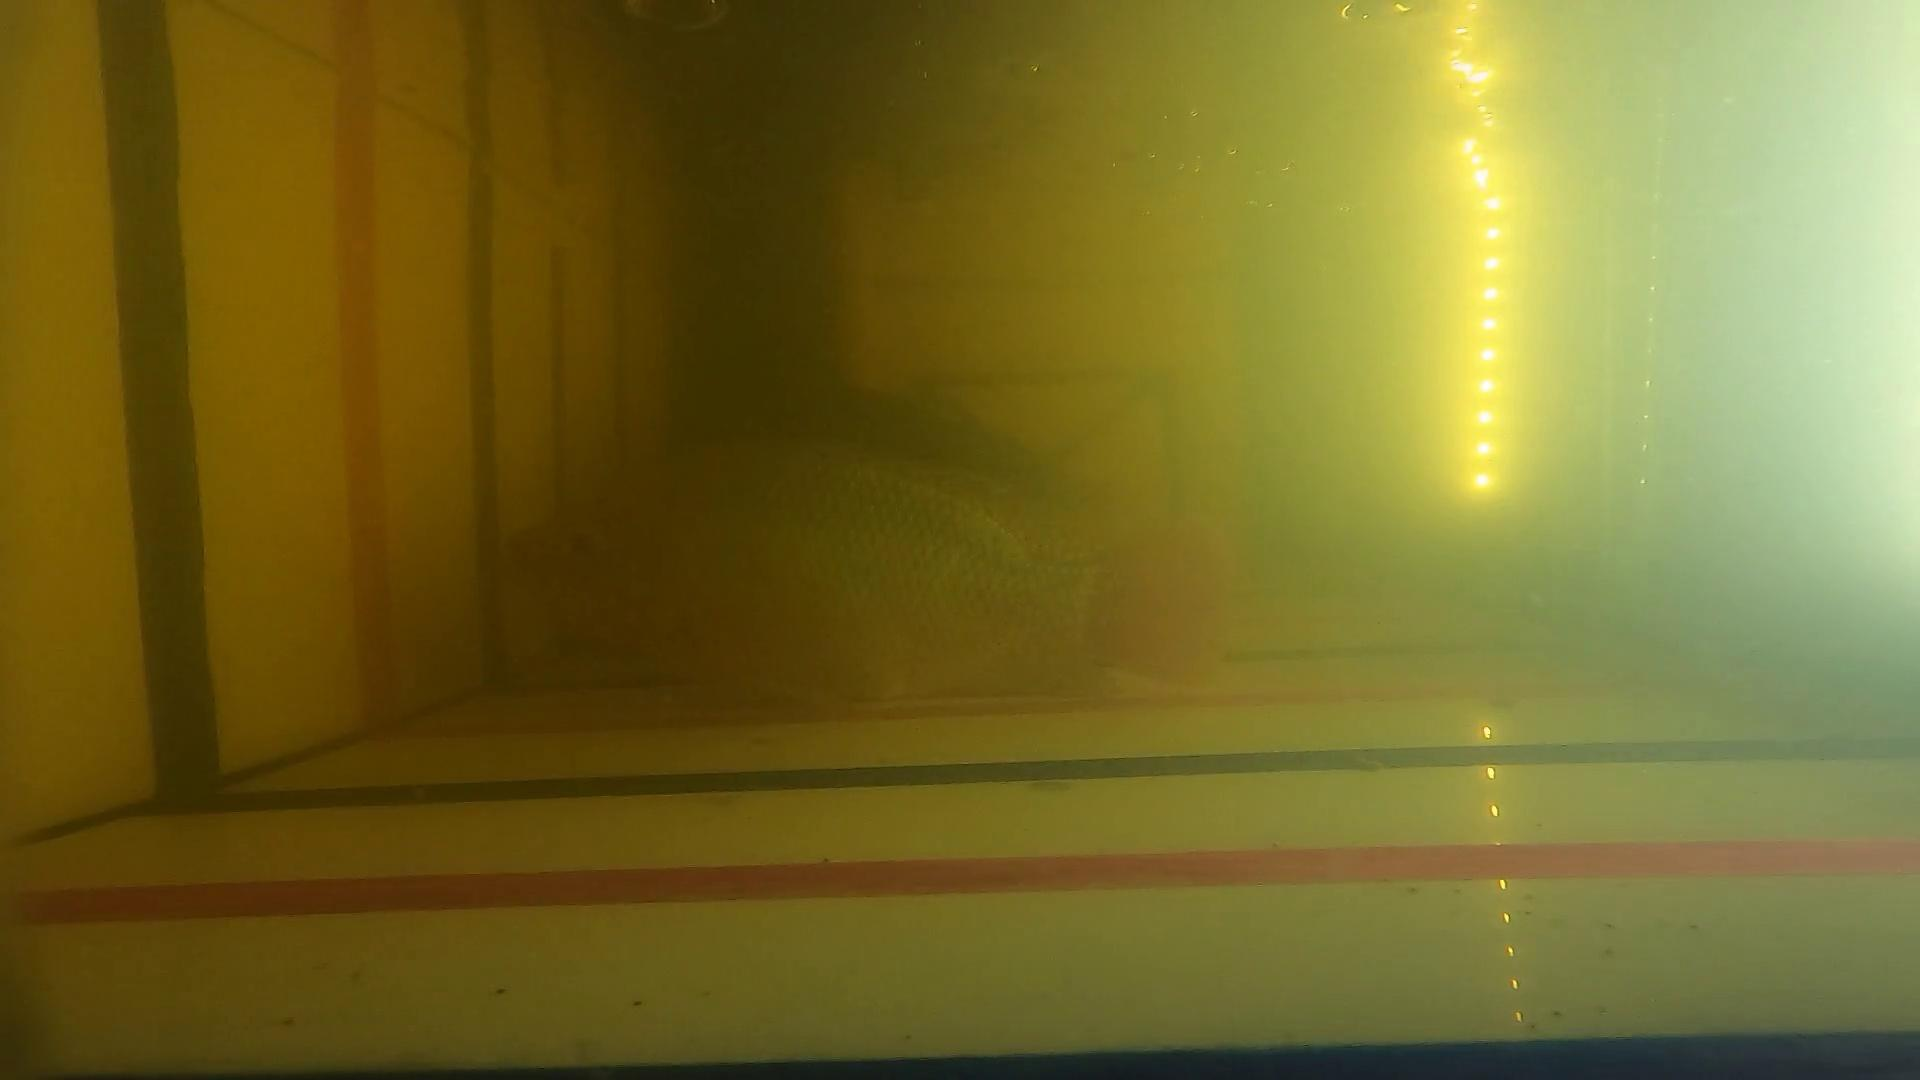Tilapia: (512, 431, 1247, 709)
